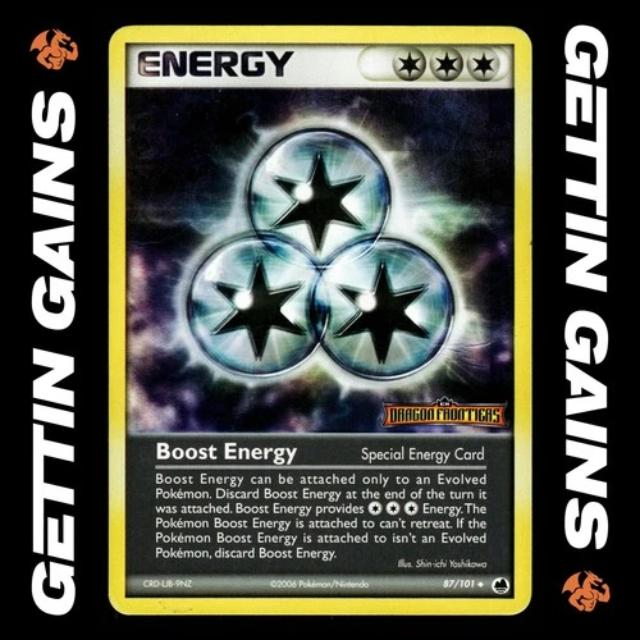Card: (99, 20, 540, 625)
Name: (144, 438, 306, 468)
